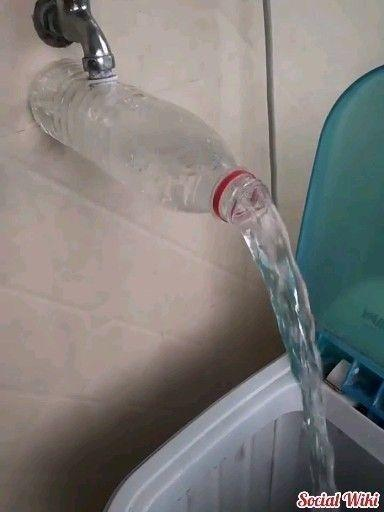PETE: (29, 58, 271, 222)
